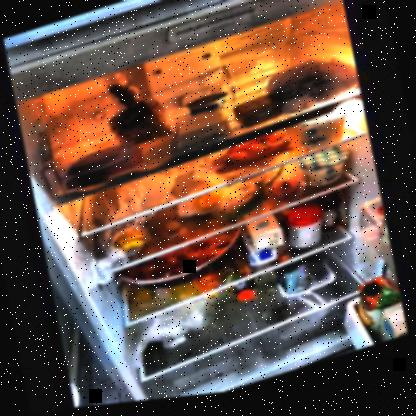broccoli: (276, 260, 332, 307)
butter: (233, 96, 283, 133)
carrot: (212, 134, 293, 179)
cheese: (174, 112, 227, 151)
green_chillies: (212, 188, 270, 229)
lemon: (114, 226, 150, 258), (194, 192, 228, 219)
milk: (241, 219, 288, 273), (375, 311, 409, 351)
salami: (72, 146, 125, 177)
tomato: (268, 179, 304, 210)
yoghurt: (300, 151, 354, 197), (298, 115, 351, 157), (186, 93, 228, 120)
